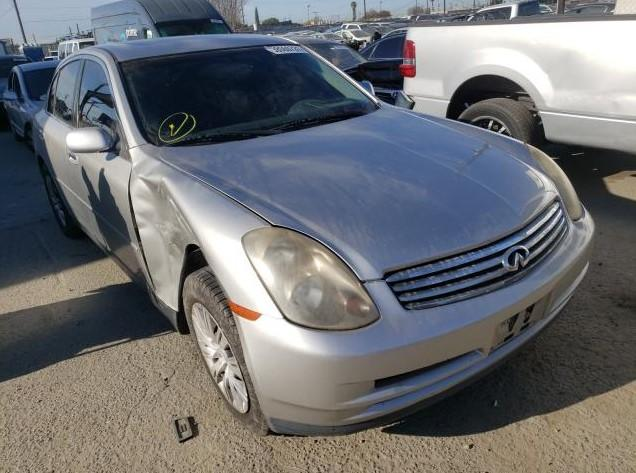Back-door: (43, 56, 89, 230)
Back-wheel: (42, 164, 79, 238)
Back-window: (47, 62, 79, 127)
Fender: (129, 145, 284, 323)
Front-bumper: (229, 208, 595, 435)
Front-door: (69, 55, 154, 293)
Front-wheel: (182, 268, 264, 433)
Front-window: (77, 62, 119, 142)
Grille: (384, 197, 569, 310)
Headlight: (242, 224, 380, 330), (529, 146, 585, 221)
Hood: (159, 102, 559, 281)
License-plate: (492, 295, 550, 350)
Mirror: (68, 129, 120, 153), (358, 80, 375, 97)
Quarter-panel: (33, 110, 72, 215)
Rocker-panel: (71, 218, 178, 333)
Roof: (57, 34, 295, 68)
Windshield: (118, 45, 375, 146)
